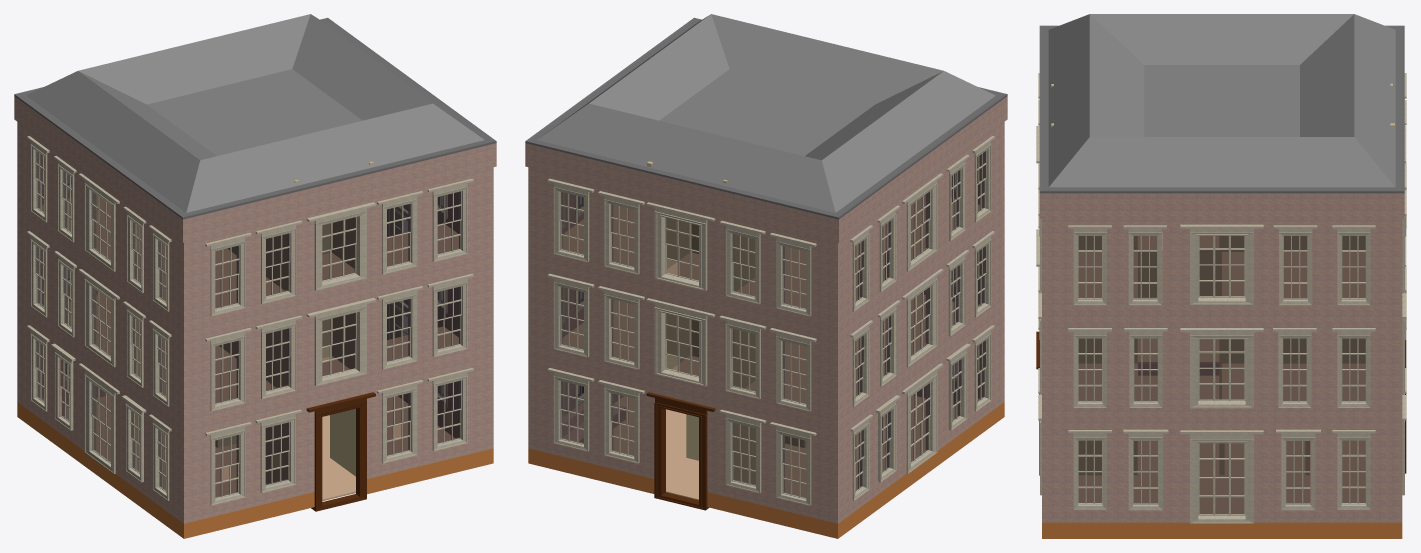
Rendered from tka.fbx.
3 views of the same model, side by side, from view 1: azimuth 30°, elevation 25°; view 2: azimuth 150°, elevation 25°; view 3: azimuth 270°, elevation 25° (orthographic). The views are drawn at different scales.
Parts seen in each view (by area): view 1: Plane.006; view 2: Plane.006; view 3: Plane.006.
Boxes of the visible parts, bbox=[...] form: Plane.006: bbox=[14, 14, 496, 538]; Plane.006: bbox=[525, 14, 1007, 538]; Plane.006: bbox=[1036, 14, 1406, 538].
Size of the model in its own units: 756 by 813 by 707.
Materials: 9 (2 with a texture image).
